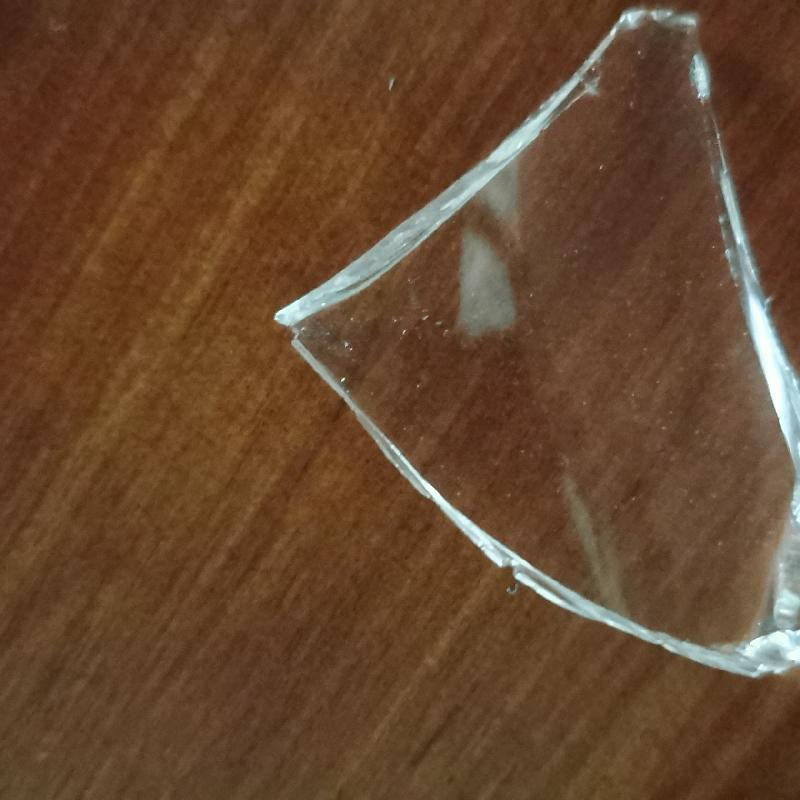glass: (276, 10, 800, 681)
